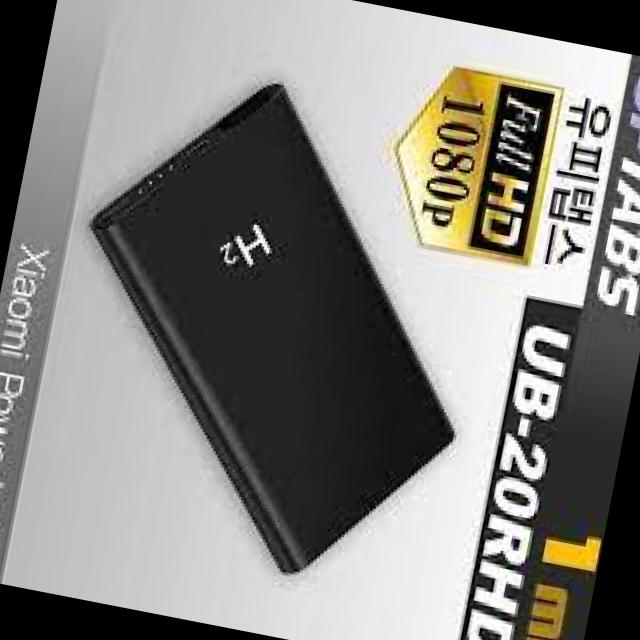portable-charger: (28, 53, 514, 610)
